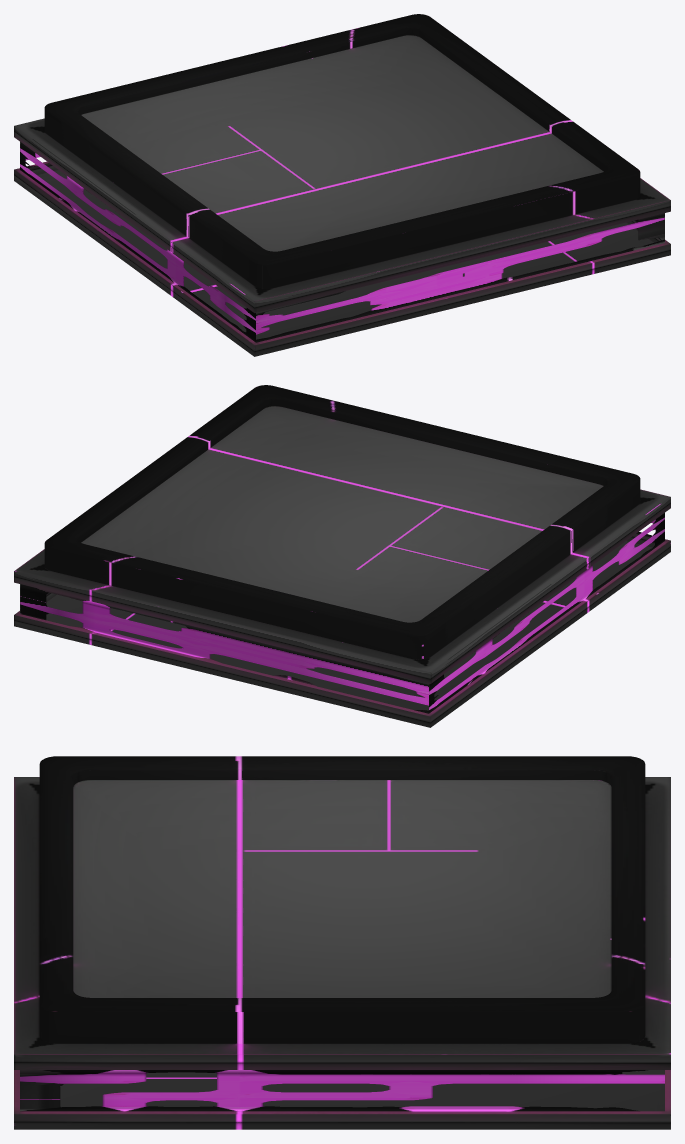
Rendered from cpu.fbx.
3 views of the same model, one above another, from view 1: azimuth 30°, elevation 25°; view 2: azimuth 150°, elevation 25°; view 3: azimuth 270°, elevation 25° (orthographic). The views are drawn at different scales.
Visible parts, largest first — view 1: Cube; view 2: Cube; view 3: Cube.
Boxes of the visible parts, <box> form: Cube: <box>14,14,670,356</box>; Cube: <box>14,385,670,727</box>; Cube: <box>14,756,670,1129</box>.
Bounding box in the file's own units: 200 × 36.32 × 200.
4 materials, 4 textured.
